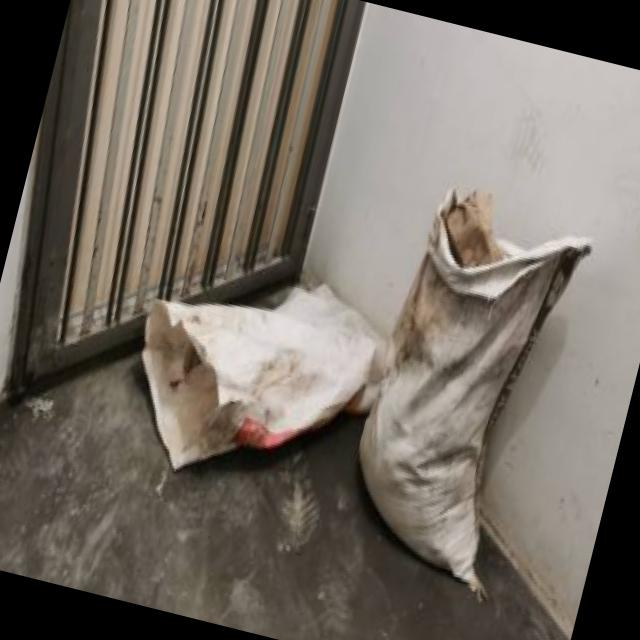KantongSemen: (326, 172, 602, 610)
